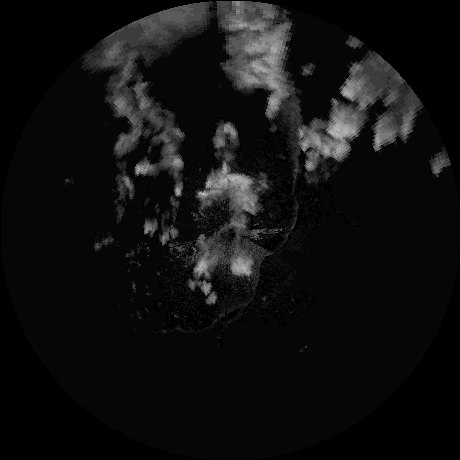frontgust: (207, 267, 262, 331), (272, 150, 303, 250)
